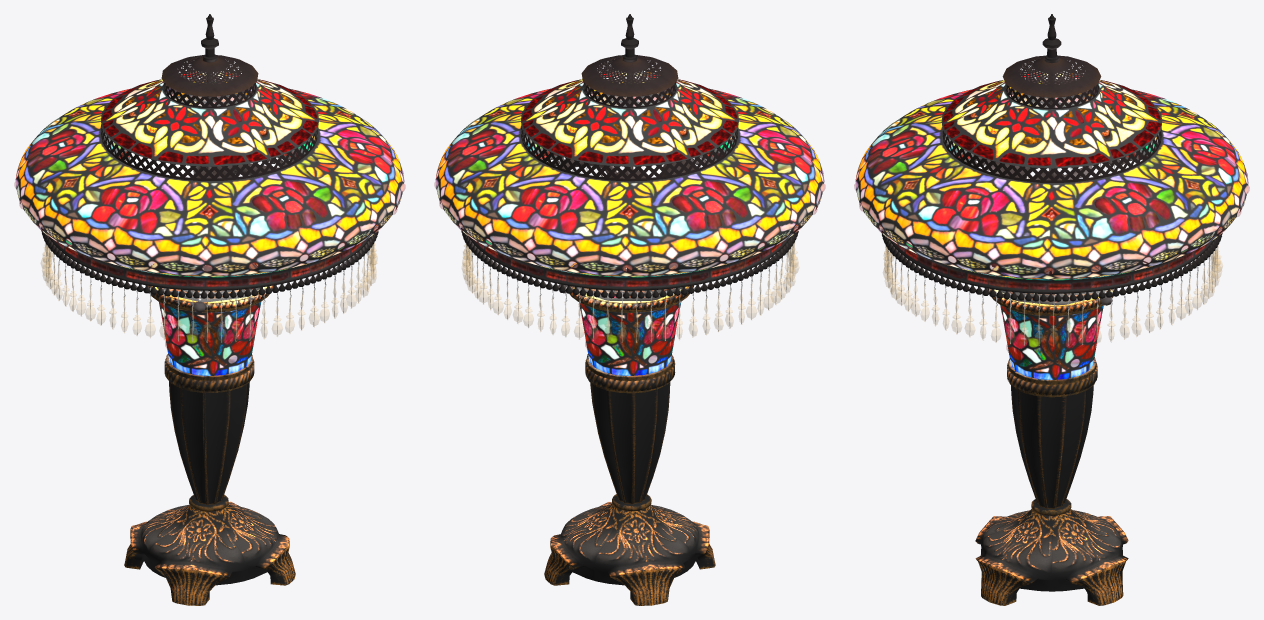
File: StainedGlassLamp.gltf
3 views of the same model, side by side, from view 1: azimuth 30°, elevation 25°; view 2: azimuth 150°, elevation 25°; view 3: azimuth 270°, elevation 25° (orthographic).
Parts seen in each view (by area): view 1: stainedglass, base, grill, amberbeads, hardware, steel, redgems; view 2: stainedglass, base, grill, amberbeads, hardware, steel, redgems; view 3: stainedglass, base, grill, amberbeads, hardware, steel, redgems.
Boxes of the visible parts, left/top/right/bottom form: stainedglass: left=15, top=71, right=404, bottom=375; base: left=124, top=262, right=295, bottom=605; grill: left=101, top=55, right=317, bottom=180; amberbeads: left=41, top=239, right=377, bottom=342; hardware: left=41, top=14, right=378, bottom=312; steel: left=45, top=162, right=373, bottom=342; redgems: left=14, top=102, right=405, bottom=363; stainedglass: left=435, top=71, right=824, bottom=375; base: left=544, top=263, right=715, bottom=605; grill: left=521, top=55, right=737, bottom=181; amberbeads: left=462, top=170, right=799, bottom=342; hardware: left=461, top=14, right=798, bottom=298; steel: left=466, top=160, right=794, bottom=342; redgems: left=434, top=105, right=825, bottom=363; stainedglass: left=855, top=71, right=1248, bottom=379; base: left=975, top=265, right=1128, bottom=605; grill: left=942, top=55, right=1161, bottom=182; amberbeads: left=883, top=173, right=1222, bottom=346; hardware: left=881, top=14, right=1222, bottom=305; steel: left=886, top=163, right=1217, bottom=345; redgems: left=854, top=106, right=1249, bottom=367.
Size of the model in its own units: 0.4399 by 0.6889 by 0.4399.
Materials: 8 (4 with a texture image).
